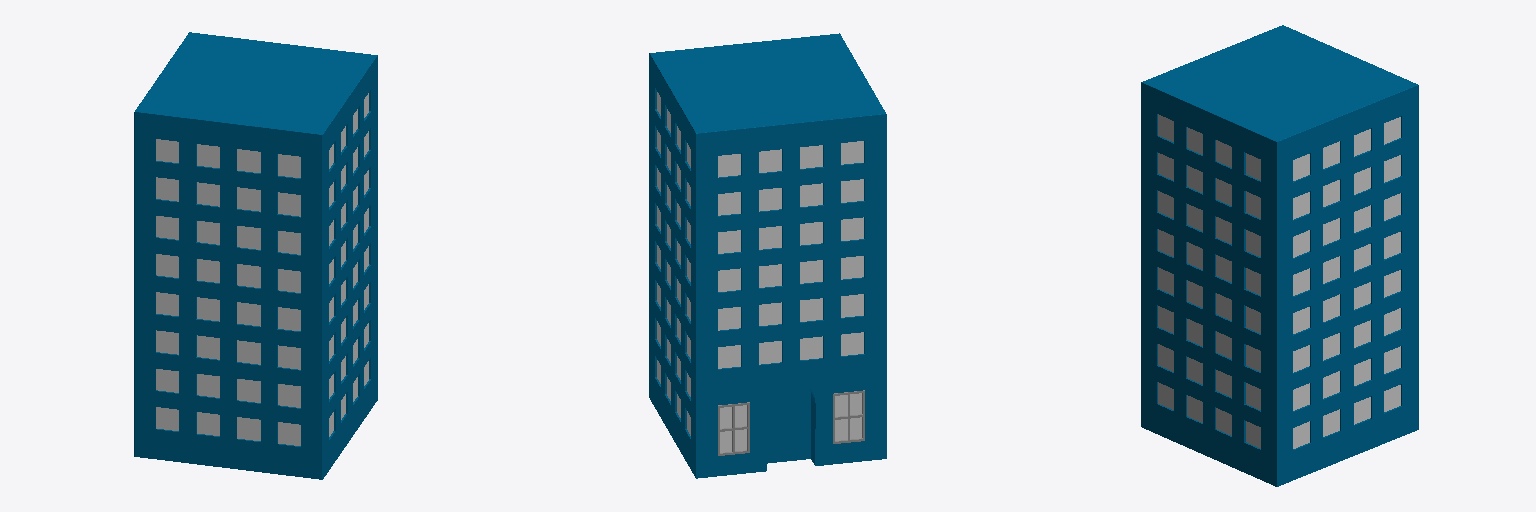
The model's file is bulding.obj.
3 renders of one model, left to right at view 1: azimuth 30°, elevation 25°; view 2: azimuth 150°, elevation 25°; view 3: azimuth 270°, elevation 25°, orthographic.
Parts seen in each view (by area): view 1: obj1; view 2: obj1; view 3: obj1.
Boxes of the visible parts, box(x1,y1,x2,y2) form: obj1: box(134, 32, 377, 479); obj1: box(649, 33, 886, 478); obj1: box(1141, 25, 1418, 486).
Size of the model in its own units: 621 by 853 by 621.